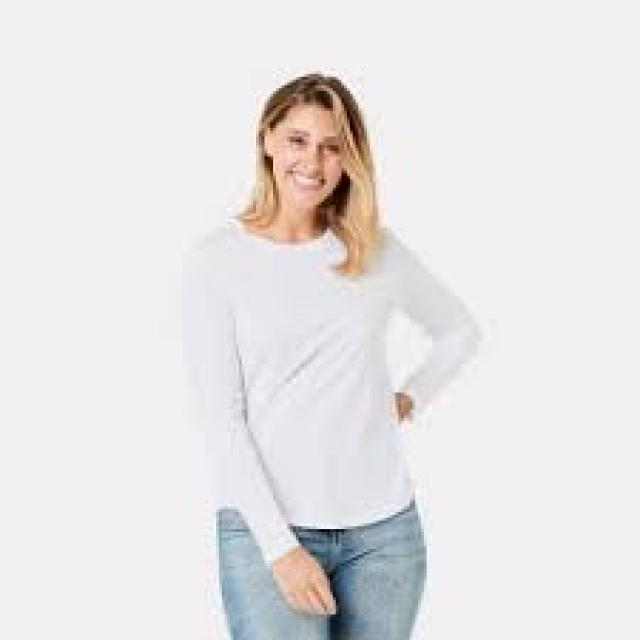plain: (175, 209, 481, 519)
